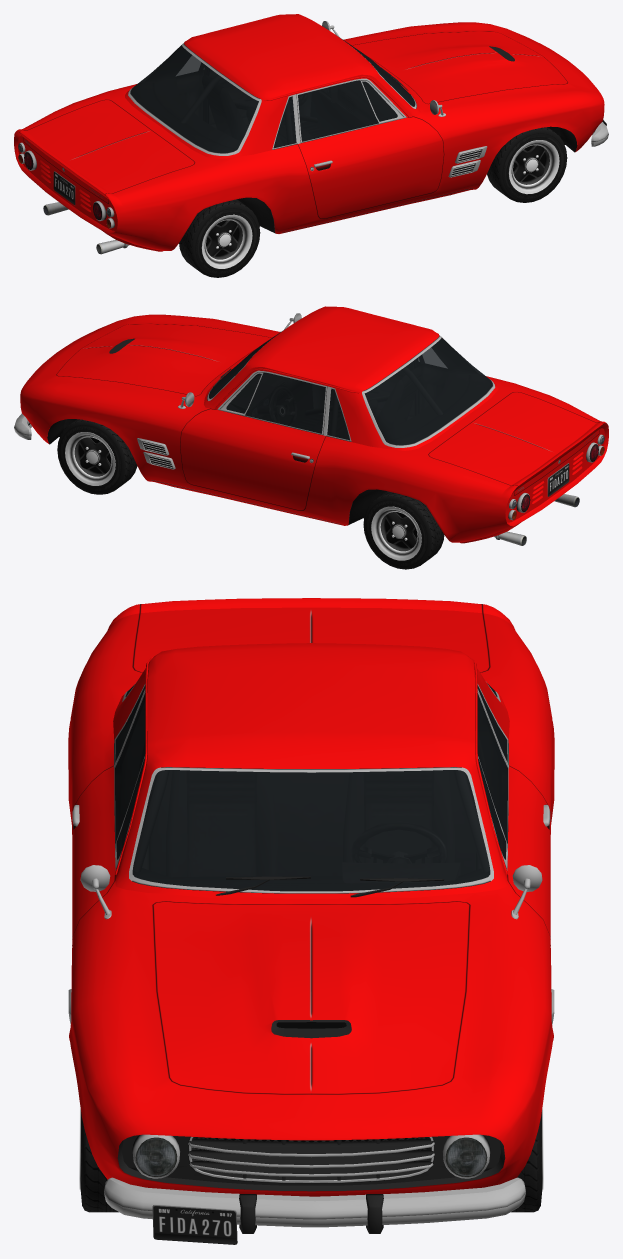
Rendered from sanremo70.glb.
3 views of the same model, one above another, from view 1: azimuth 30°, elevation 25°; view 2: azimuth 150°, elevation 25°; view 3: azimuth 270°, elevation 25° (orthographic). The views are drawn at different scales.
Visible parts, largest first — view 1: Sanremo70_Body_Sanremo70_Bodymat_0, Sanremo70_Interior_UCB_Interiors_2_0, Sanremo70_Hood_Sanremo70_Bodymat_0, Sanremo70_Glass_Rear_UCB_Lights_and_Glass_Transperent_0, Sanremo70_Bottom_UCB_BOTTOM_LT_0, Sanremo70_WheelStock_RR_RB1c_Tire_1k_0, Sanremo70_WheelStock_FR_RB1c_Tire_1k_0, Sanremo70_Glass_Passenger_UCB_Lights_and_Glass_Transperent_0, Sanremo70_Trim_UCB_GenMaskTrim_0, Sanremo70_Glass_Body_UCB_Lights_and_Glass_Transperent_0, Sanremo70_Windshield_UCB_Lights_and_Glass_Transperent_0, Sanremo70_Numberplate_Rear_Numberplates_Misk_U_0; view 2: Sanremo70_Body_Sanremo70_Bodymat_0, Sanremo70_Interior_UCB_Interiors_2_0, Sanremo70_Hood_Sanremo70_Bodymat_0, Sanremo70_Glass_Rear_UCB_Lights_and_Glass_Transperent_0, Sanremo70_Bottom_UCB_BOTTOM_LT_0, Sanremo70_WheelStock_RL_RB1c_Tire_1k_0, Sanremo70_WheelStock_FL_RB1c_Tire_1k_0, Sanremo70_Glass_Driver_UCB_Lights_and_Glass_Transperent_0, Sanremo70_Trim_UCB_GenMaskTrim_0, Sanremo70_Glass_Body_UCB_Lights_and_Glass_Transperent_0, Sanremo70_Steering_Wheels_UCB_Interiors_2_0, Sanremo70_Windshield_UCB_Lights_and_Glass_Transperent_0 (+1 smaller); view 3: Sanremo70_Body_Sanremo70_Bodymat_0, Sanremo70_Hood_Sanremo70_Bodymat_0, Sanremo70_Windshield_UCB_Lights_and_Glass_Transperent_0, Sanremo70_Interior_UCB_Interiors_2_0, Sanremo70_Bottom_UCB_BOTTOM_LT_0, Sanremo70_Bumper_Front_UCB_BOTTOM_LT_0, Sanremo70_Numberplate_Front_Numberplates_Misk_U_0, Sanremo70_Glass_Driver_UCB_Lights_and_Glass_Transperent_0, Sanremo70_Glass_Passenger_UCB_Lights_and_Glass_Transperent_0, Sanremo70_Headlights_Glass_UCB_Lights_and_Glass_Transperent_, Sanremo70_Headlights_UCB_Lights_and_Glass_0, Sanremo70_Trim_UCB_GenMaskTrim_0 (+4 smaller).
Boxes of the visible parts, bbox=[...] form: Sanremo70_Body_Sanremo70_Bodymat_0: bbox=[14, 14, 604, 251]; Sanremo70_Interior_UCB_Interiors_2_0: bbox=[131, 45, 414, 208]; Sanremo70_Hood_Sanremo70_Bodymat_0: bbox=[352, 31, 567, 103]; Sanremo70_Glass_Rear_UCB_Lights_and_Glass_Transperent_0: bbox=[130, 45, 258, 153]; Sanremo70_Bottom_UCB_BOTTOM_LT_0: bbox=[18, 21, 577, 254]; Sanremo70_WheelStock_RR_RB1c_Tire_1k_0: bbox=[179, 199, 260, 277]; Sanremo70_WheelStock_FR_RB1c_Tire_1k_0: bbox=[487, 127, 567, 202]; Sanremo70_Glass_Passenger_UCB_Lights_and_Glass_Transperent_0: bbox=[298, 80, 397, 141]; Sanremo70_Trim_UCB_GenMaskTrim_0: bbox=[19, 31, 567, 232]; Sanremo70_Glass_Body_UCB_Lights_and_Glass_Transperent_0: bbox=[273, 96, 296, 148]; Sanremo70_Windshield_UCB_Lights_and_Glass_Transperent_0: bbox=[338, 36, 415, 106]; Sanremo70_Numberplate_Rear_Numberplates_Misk_U_0: bbox=[53, 171, 75, 204]; Sanremo70_Body_Sanremo70_Bodymat_0: bbox=[20, 306, 608, 543]; Sanremo70_Interior_UCB_Interiors_2_0: bbox=[209, 338, 491, 496]; Sanremo70_Hood_Sanremo70_Bodymat_0: bbox=[57, 324, 271, 395]; Sanremo70_Glass_Rear_UCB_Lights_and_Glass_Transperent_0: bbox=[364, 337, 492, 445]; Sanremo70_Bottom_UCB_BOTTOM_LT_0: bbox=[47, 313, 604, 545]; Sanremo70_WheelStock_RL_RB1c_Tire_1k_0: bbox=[363, 491, 444, 569]; Sanremo70_WheelStock_FL_RB1c_Tire_1k_0: bbox=[57, 419, 137, 494]; Sanremo70_Glass_Driver_UCB_Lights_and_Glass_Transperent_0: bbox=[226, 372, 325, 433]; Sanremo70_Trim_UCB_GenMaskTrim_0: bbox=[56, 324, 603, 524]; Sanremo70_Glass_Body_UCB_Lights_and_Glass_Transperent_0: bbox=[327, 388, 349, 440]; Sanremo70_Steering_Wheels_UCB_Interiors_2_0: bbox=[269, 385, 296, 425]; Sanremo70_Windshield_UCB_Lights_and_Glass_Transperent_0: bbox=[209, 329, 284, 398]; Sanremo70_Body_Sanremo70_Bodymat_0: bbox=[68, 598, 554, 1196]; Sanremo70_Hood_Sanremo70_Bodymat_0: bbox=[153, 901, 469, 1094]; Sanremo70_Windshield_UCB_Lights_and_Glass_Transperent_0: bbox=[132, 770, 490, 891]; Sanremo70_Interior_UCB_Interiors_2_0: bbox=[115, 687, 507, 893]; Sanremo70_Bottom_UCB_BOTTOM_LT_0: bbox=[68, 682, 554, 1191]; Sanremo70_Bumper_Front_UCB_BOTTOM_LT_0: bbox=[104, 1177, 525, 1233]; Sanremo70_Numberplate_Front_Numberplates_Misk_U_0: bbox=[152, 1205, 237, 1244]; Sanremo70_Glass_Driver_UCB_Lights_and_Glass_Transperent_0: bbox=[477, 693, 507, 859]; Sanremo70_Glass_Passenger_UCB_Lights_and_Glass_Transperent_0: bbox=[115, 693, 145, 859]; Sanremo70_Headlights_Glass_UCB_Lights_and_Glass_Transperent_: bbox=[135, 1137, 487, 1176]; Sanremo70_Headlights_UCB_Lights_and_Glass_0: bbox=[136, 1138, 486, 1176]; Sanremo70_Trim_UCB_GenMaskTrim_0: bbox=[72, 604, 550, 1094].
Size of the model in its own units: 4.18 by 1.25 by 1.71.
Materials: 9 (8 with a texture image).
